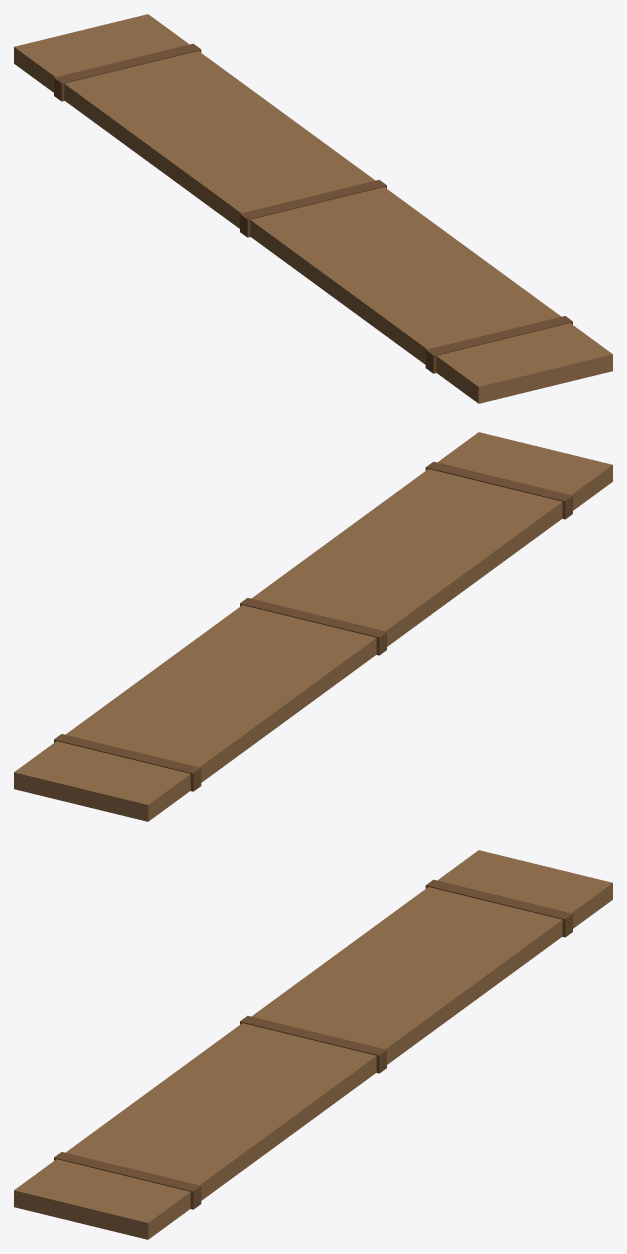
Rendered from plank.glb.
3 views of the same model, one above another, from view 1: azimuth 30°, elevation 25°; view 2: azimuth 150°, elevation 25°; view 3: azimuth 330°, elevation 25° (orthographic).
Parts seen in each view (by area): view 1: main; view 2: main; view 3: main.
Boxes of the visible parts, x1=… form: main: x1=14, y1=14, x2=612, y2=403; main: x1=14, y1=432, x2=612, y2=821; main: x1=14, y1=850, x2=612, y2=1239.
Bounding box in the file's own units: 0.52 × 0.065 × 3.
